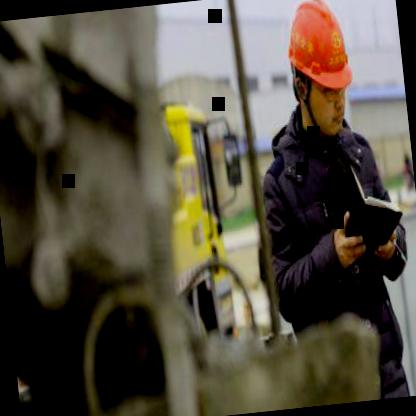helmet: (276, 0, 364, 149)
